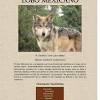Lobo: (27, 11, 79, 54)
